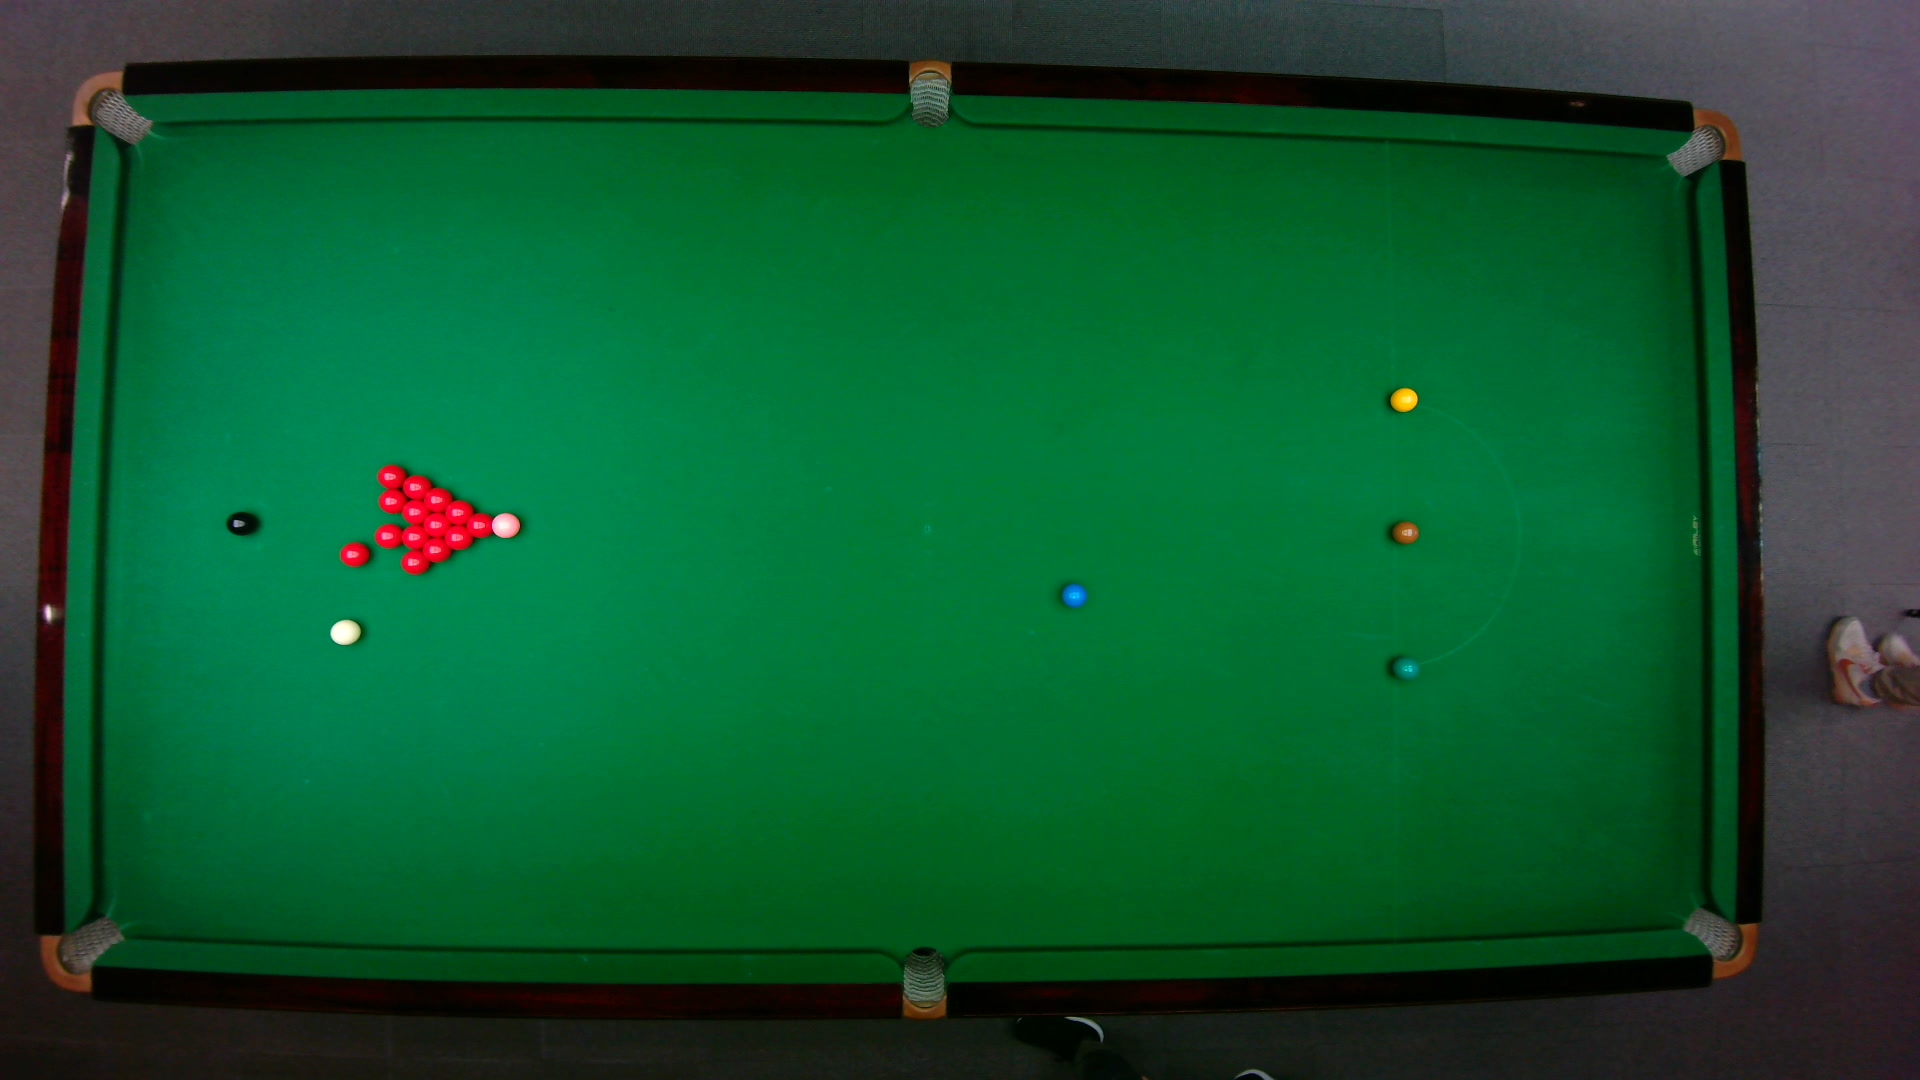bag: (37, 913, 125, 992), (69, 70, 154, 146), (1679, 905, 1759, 978), (1665, 107, 1745, 179), (901, 945, 945, 1021), (909, 58, 952, 129)
black: (224, 510, 260, 537)
blue: (1059, 582, 1089, 609)
brown: (1390, 520, 1422, 546)
green: (1389, 654, 1422, 683)
pink: (491, 512, 522, 541)
red: (375, 462, 410, 489), (372, 522, 405, 551), (400, 549, 433, 578), (338, 541, 372, 568), (375, 489, 410, 516), (400, 473, 434, 500), (443, 498, 475, 526), (421, 538, 454, 564), (443, 526, 475, 553), (423, 487, 455, 513), (465, 512, 495, 539), (400, 500, 430, 525), (422, 513, 452, 538), (400, 525, 430, 549)
white: (328, 617, 363, 647)
yellow: (1389, 386, 1420, 414)
zone: (1389, 400, 1520, 666)
